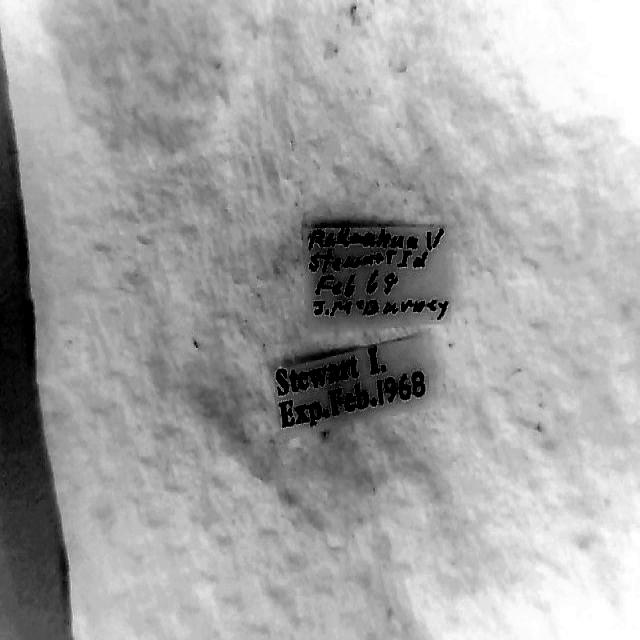hand_label: (306, 225, 450, 321)
typed_label: (275, 335, 429, 430)
